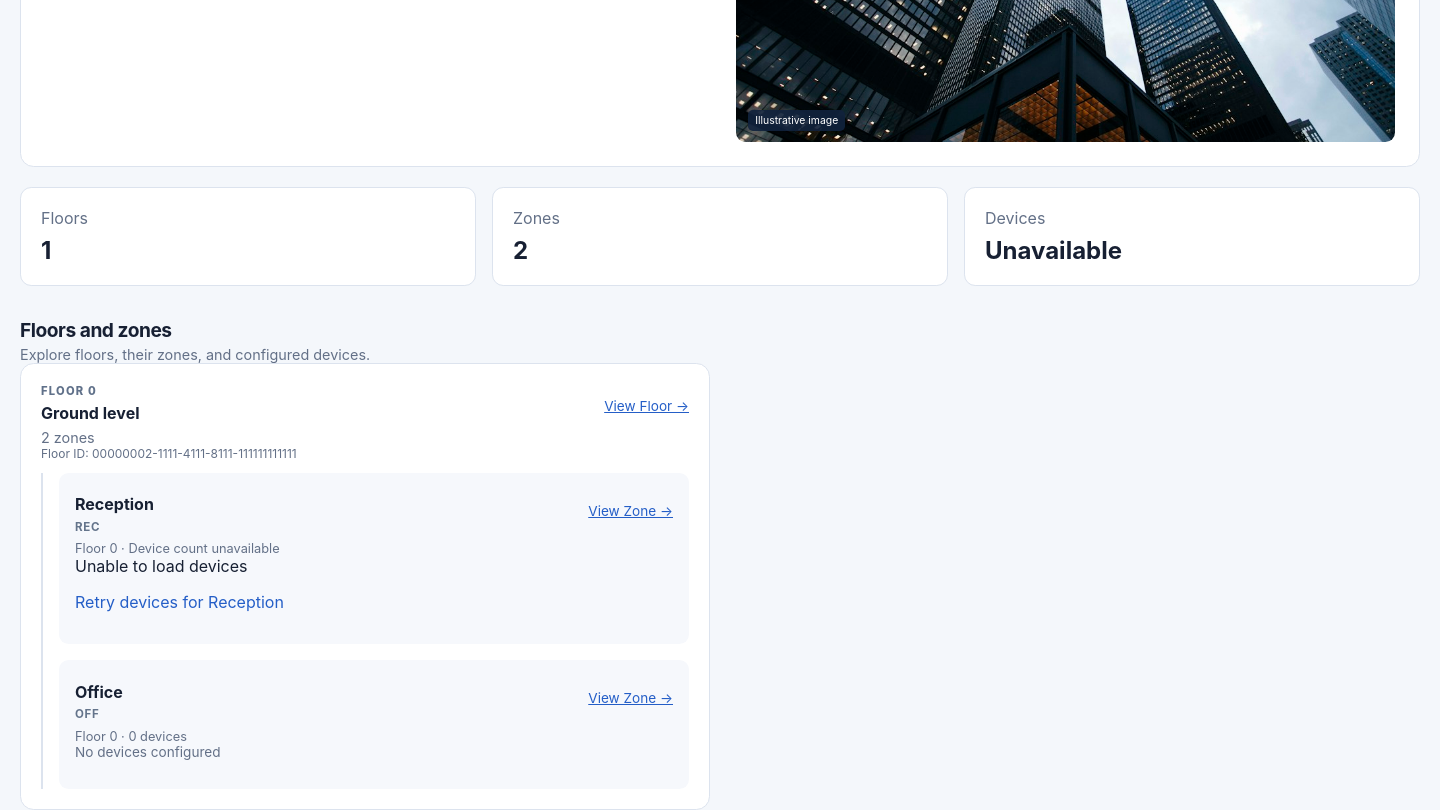
Scenario: M15 Building Details › rejects cross-zone devices, keeps sibling zones usable and recovers locally
(page scrolled)
Expected: the text "Unable to load devices" is shown, top-left (75, 556), bottom-right (248, 576)
Expected: the text "ENV-01" is not shown
Click the button "Retry devices for Reception".
click(179, 602)  # box top-left (75, 592), bottom-right (284, 612)
(page scrolled)
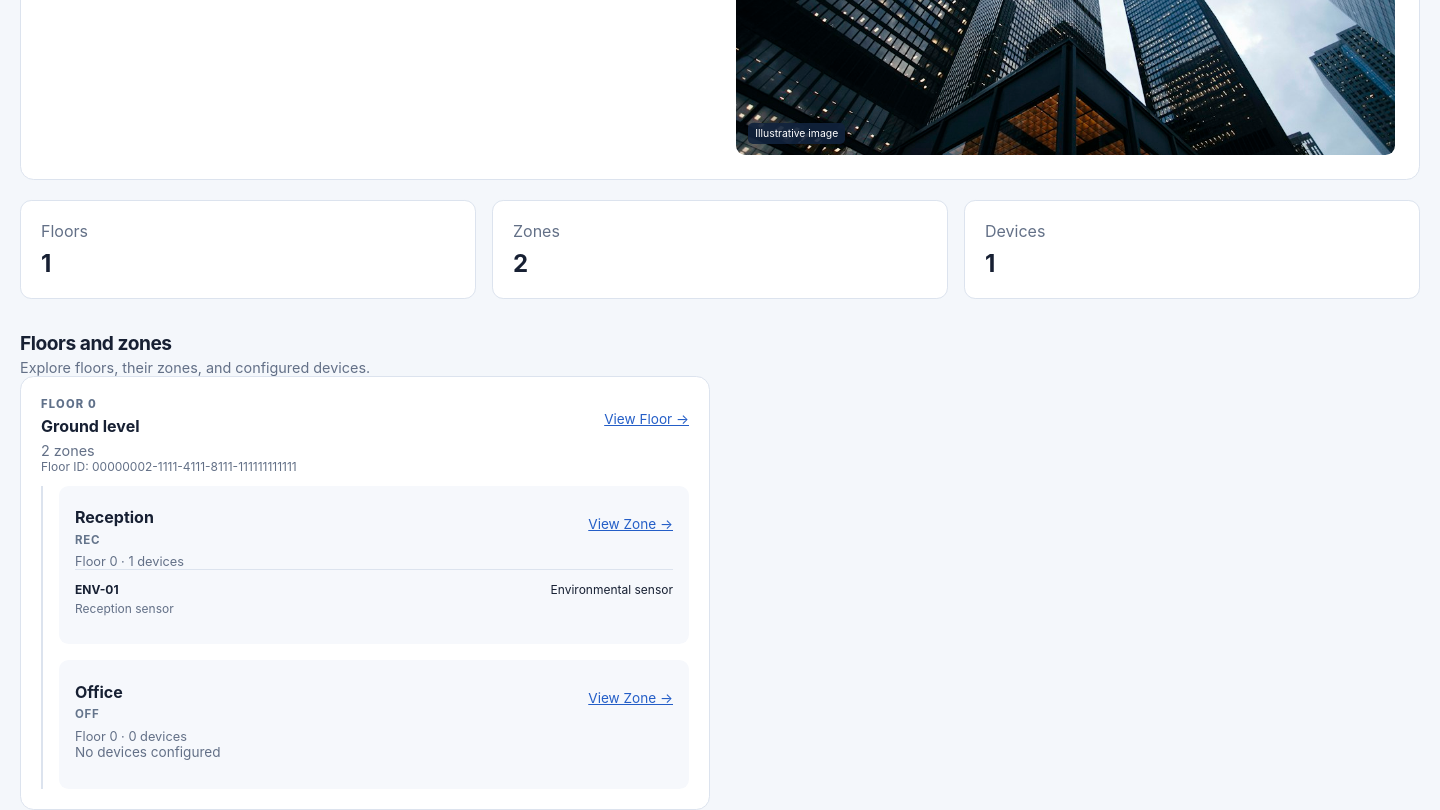
Expected: the text "ENV-01" is shown, top-left (75, 582), bottom-right (119, 597)
